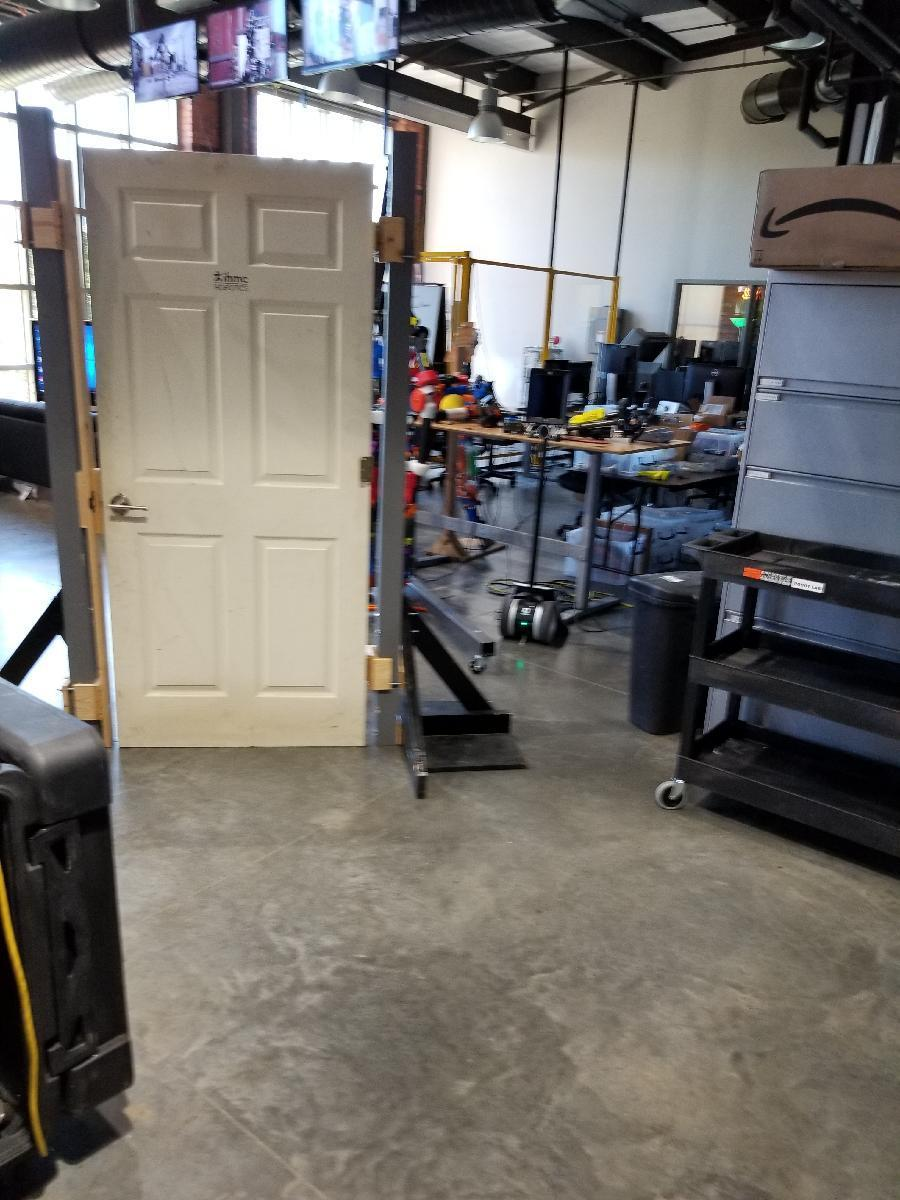door: (78, 143, 374, 741)
handle: (105, 492, 150, 520)
